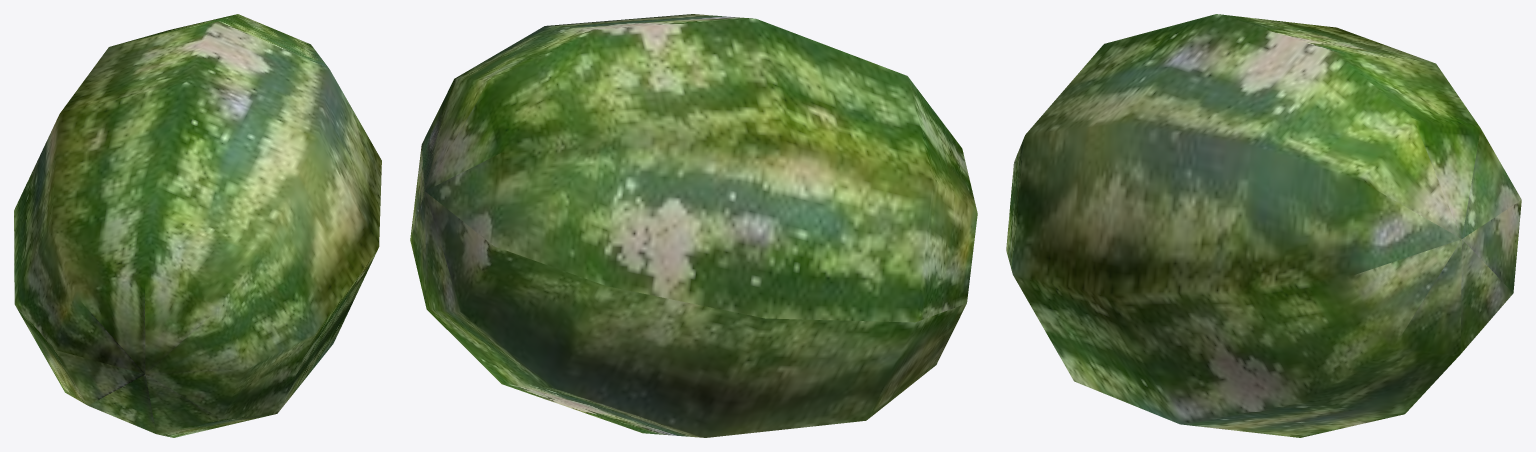
3 views of the same model, side by side, from view 1: azimuth 30°, elevation 25°; view 2: azimuth 150°, elevation 25°; view 3: azimuth 270°, elevation 25° (orthographic). The views are drawn at different scales.
Visible parts, largest first — view 1: Watermelon005_Foods_0; view 2: Watermelon005_Foods_0; view 3: Watermelon005_Foods_0.
Part boxes in pixels (<box>): Watermelon005_Foods_0: <box>14,14,381,437</box>; Watermelon005_Foods_0: <box>410,14,977,437</box>; Watermelon005_Foods_0: <box>1006,14,1521,437</box>.
Size of the model in its own units: 0.4287 by 0.3786 by 0.4376.
1 material, 1 textured.
